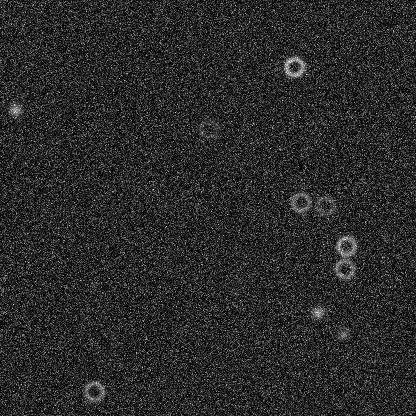Ring: (196, 116, 220, 140), (313, 193, 337, 217), (288, 190, 312, 214), (282, 54, 306, 78), (82, 379, 106, 403), (334, 233, 358, 257), (332, 256, 356, 280)
Spot: (309, 304, 325, 320), (7, 101, 23, 117), (335, 326, 351, 342)
